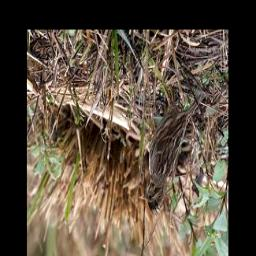Sparrow: (141, 74, 207, 217)
